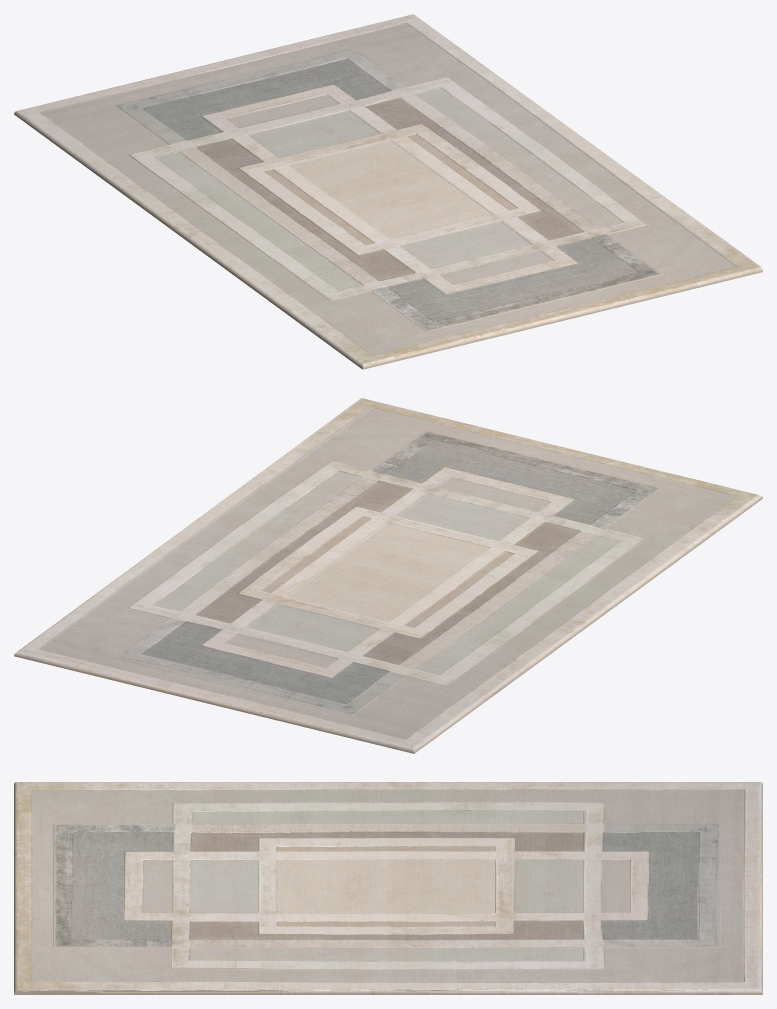
File: carpet.FBX
The picture shows the model from 3 angles, top to bottom: view 1: azimuth 30°, elevation 25°; view 2: azimuth 150°, elevation 25°; view 3: azimuth 270°, elevation 25°; orthographic projection. The views are drawn at different scales.
Visible parts, largest first — view 1: Obj3d66-490859-1-343; view 2: Obj3d66-490859-1-343; view 3: Obj3d66-490859-1-343.
Boxes of the visible parts, bbox=[...] form: Obj3d66-490859-1-343: bbox=[14, 14, 762, 369]; Obj3d66-490859-1-343: bbox=[14, 398, 762, 753]; Obj3d66-490859-1-343: bbox=[14, 782, 762, 994].
Bounding box in the file's own units: 39.09 × 0.3937 × 58.99.
1 material, 1 textured.
